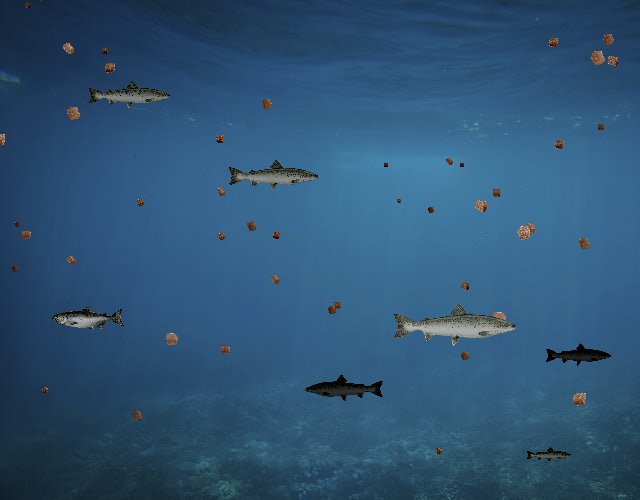Fish: (390, 301, 519, 347), (227, 159, 321, 193), (86, 79, 172, 110), (304, 373, 385, 403), (53, 305, 126, 332), (544, 343, 612, 367), (526, 447, 573, 464)
Pellet: (565, 385, 593, 413), (467, 193, 494, 220), (56, 36, 81, 61), (572, 232, 596, 256), (432, 444, 446, 458), (38, 383, 52, 397), (21, 0, 33, 11)
